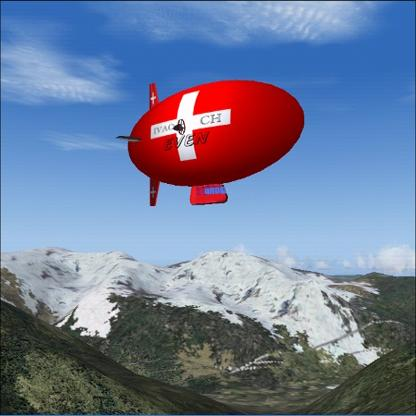Airship: (118, 78, 308, 212)
